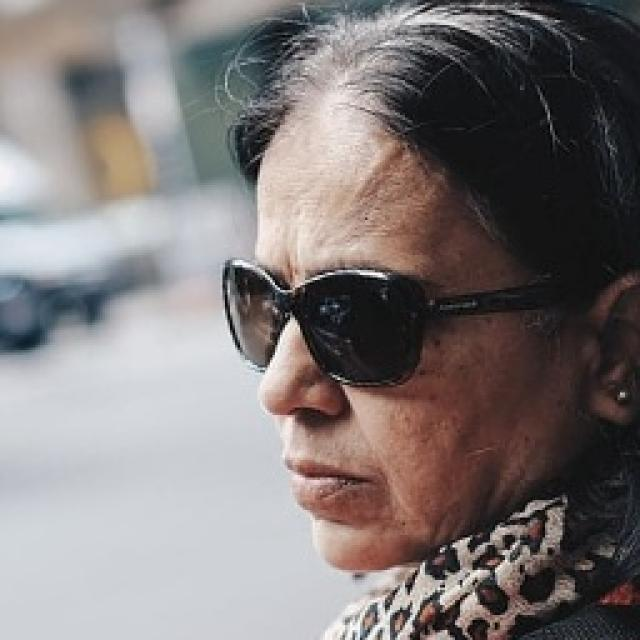glasses: (203, 255, 571, 413)
